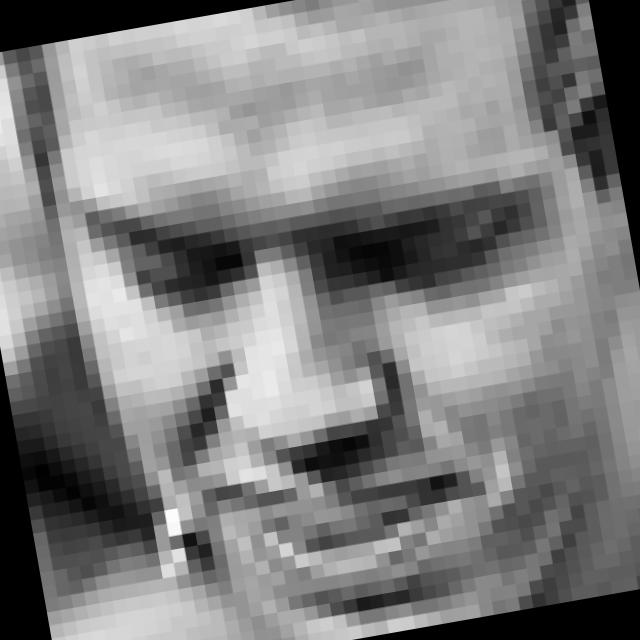sad: (63, 111, 626, 640)
